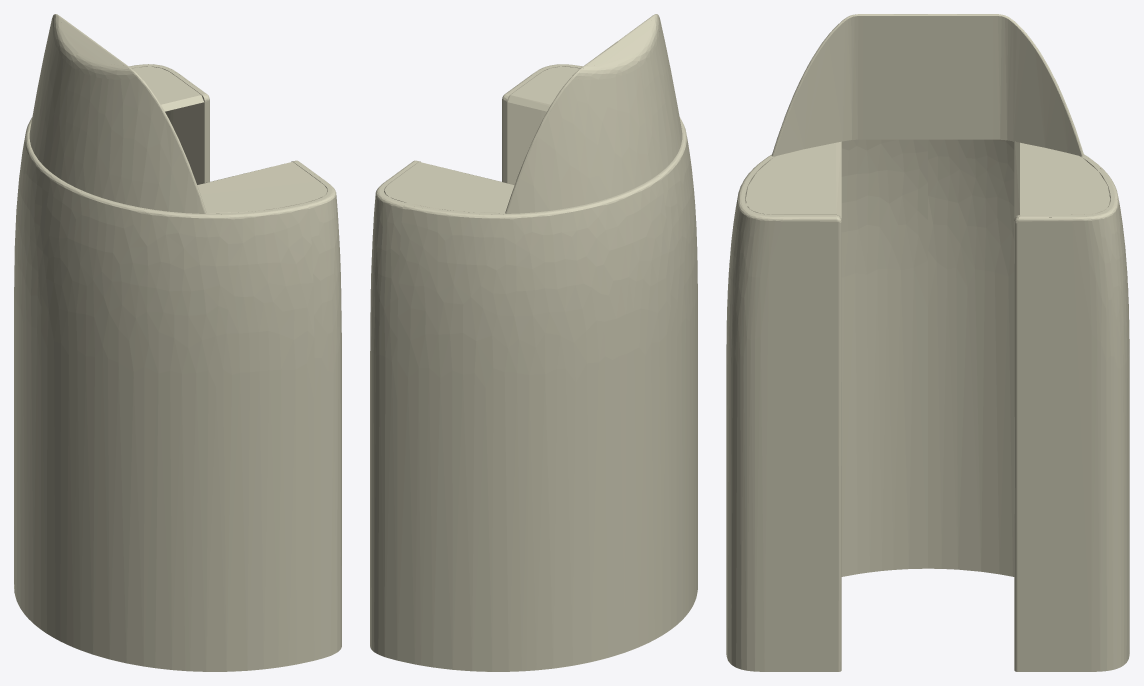
Rendered from body.dae.
3 renders of one model, left to right at view 1: azimuth 30°, elevation 25°; view 2: azimuth 150°, elevation 25°; view 3: azimuth 270°, elevation 25°, orthographic.
Parts seen in each view (by area): view 1: Body; view 2: Body; view 3: Body.
Part boxes in pixels (x1=…): Body: x1=14, y1=14, x2=341, y2=671; Body: x1=370, y1=14, x2=697, y2=671; Body: x1=726, y1=14, x2=1129, y2=671.
Bounding box in the file's own units: 0.2151 × 0.3502 × 0.5544.
1 material, 1 textured.
